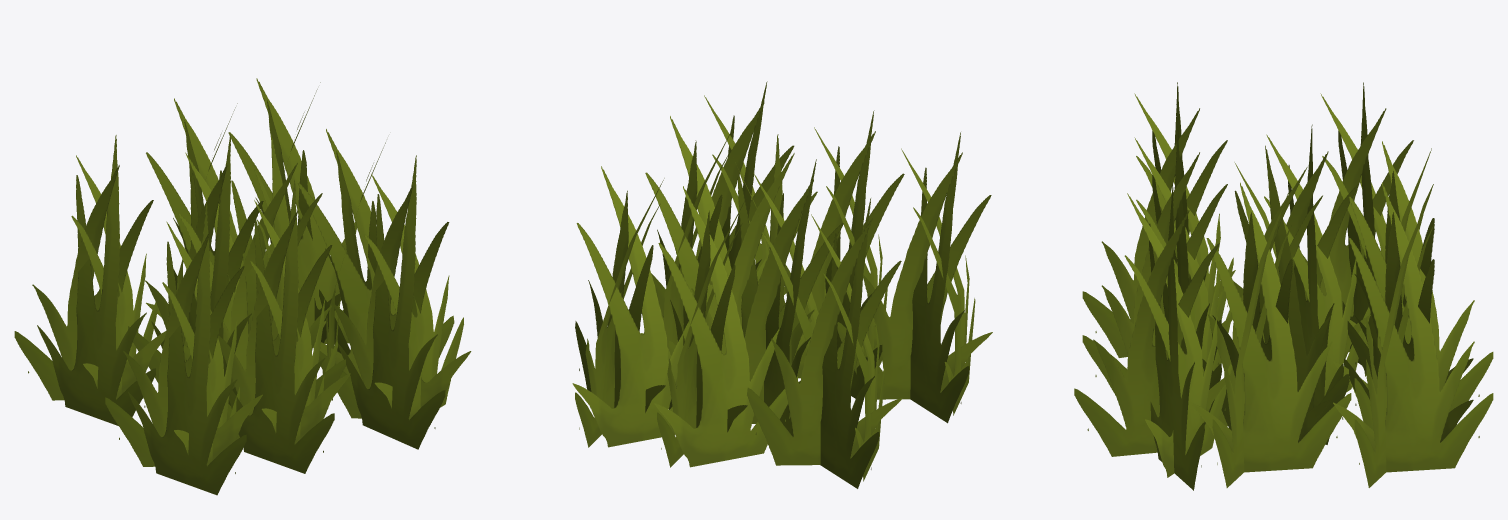
The model's file is Tall_Grass.fbx.
The picture shows the model from 3 angles, left to right: view 1: azimuth 30°, elevation 25°; view 2: azimuth 150°, elevation 25°; view 3: azimuth 270°, elevation 25°; orthographic projection. The views are drawn at different scales.
Parts seen in each view (by area): view 1: Grass_01_002; view 2: Grass_01_002; view 3: Grass_01_002.
Boxes of the visible parts, left/top/right/bottom form: Grass_01_002: left=14, top=78, right=471, bottom=495; Grass_01_002: left=572, top=81, right=992, bottom=488; Grass_01_002: left=1074, top=82, right=1493, bottom=490.
Size of the model in its own units: 1.34 by 1.03 by 1.25.
